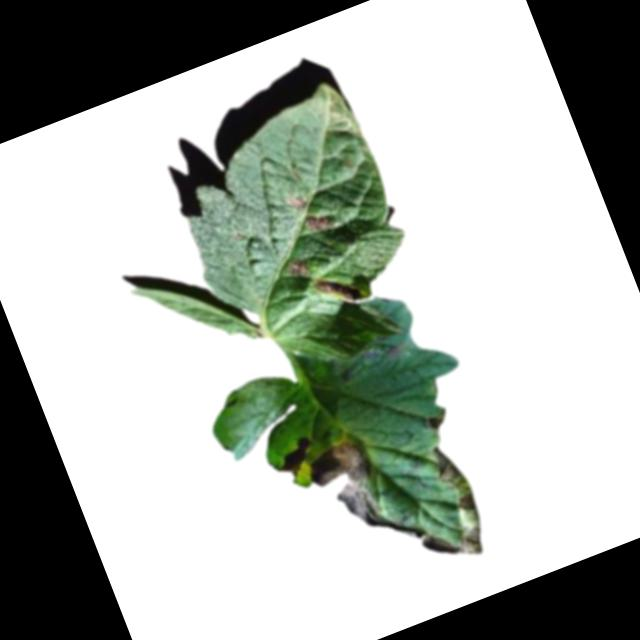Early_blight: (302, 425, 425, 566), (392, 441, 497, 575), (268, 431, 322, 483), (313, 267, 364, 315), (360, 332, 411, 370), (302, 209, 335, 237), (283, 254, 311, 282), (285, 193, 307, 213)
